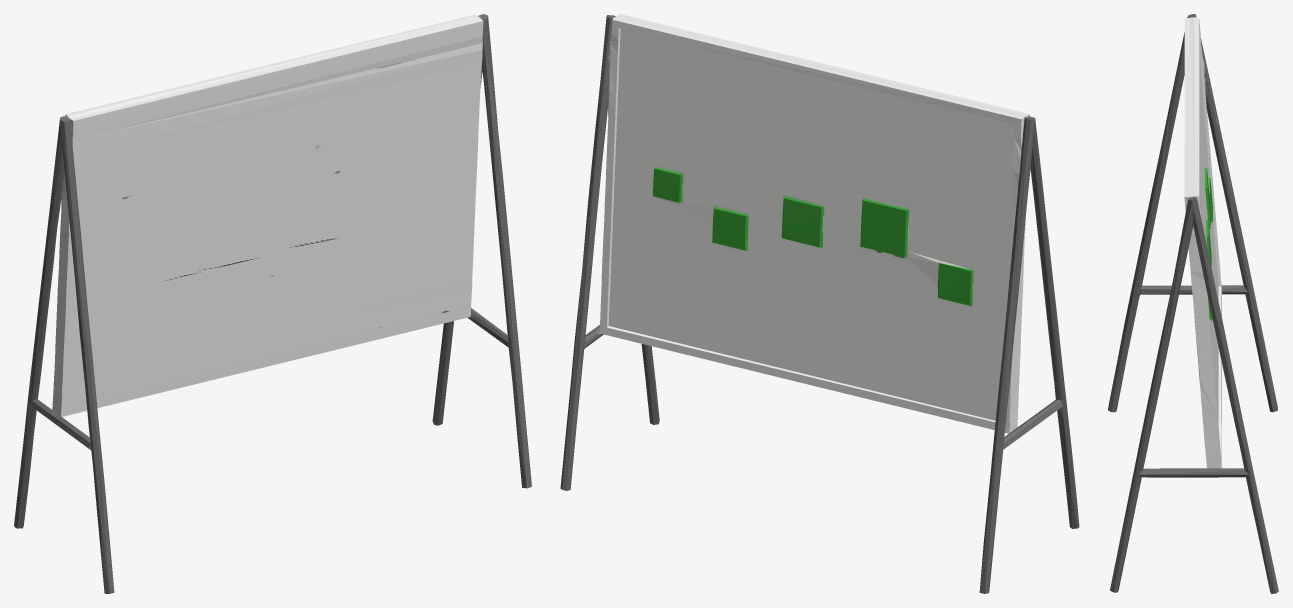
Rendered from whiteboard_neu.glb.
The picture shows the model from 3 angles, left to right: view 1: azimuth 30°, elevation 25°; view 2: azimuth 150°, elevation 25°; view 3: azimuth 270°, elevation 25°; orthographic projection. The views are drawn at different scales.
Visible parts, largest first — view 1: 282295_23_05_25_14_30_17_0; view 2: 282295_23_05_25_14_30_17_0; view 3: 282295_23_05_25_14_30_17_0.
Part boxes in pixels (x1,y1,x2,y2): 282295_23_05_25_14_30_17_0: (14,14,531,593); 282295_23_05_25_14_30_17_0: (560,14,1079,593); 282295_23_05_25_14_30_17_0: (1108,14,1278,593).
Bounding box in the file's own units: 5.84 × 5.78 × 2.26.
1 material, 1 textured.
